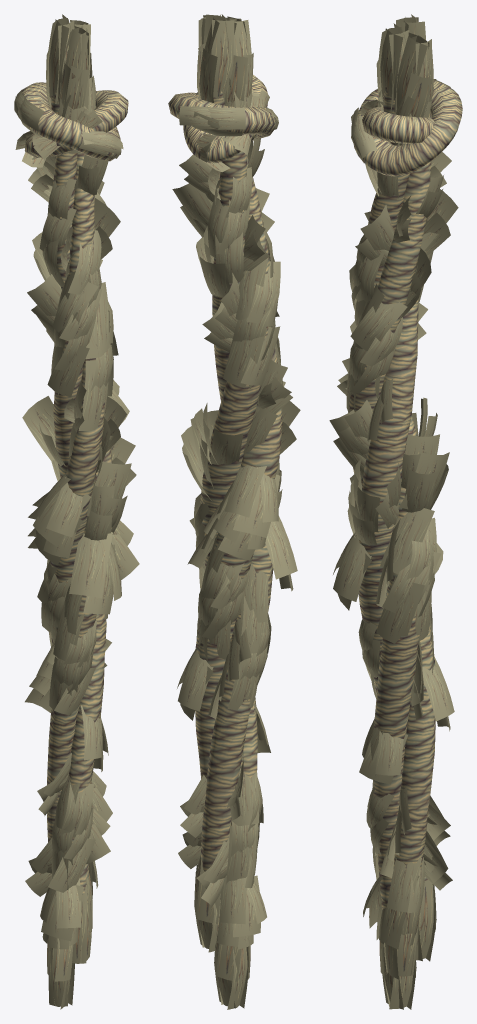
Rendered from SM_Torii_gate_sacred_rope_hanging_LOD0.fbx.
3 views of the same model, side by side, from view 1: azimuth 90°, elevation 25°; view 2: azimuth 150°, elevation 25°; view 3: azimuth 330°, elevation 25° (orthographic).
Parts seen in each view (by area): view 1: SM_Torii_gate_sacred_rope_hanging_LOD0_LOD0; view 2: SM_Torii_gate_sacred_rope_hanging_LOD0_LOD0; view 3: SM_Torii_gate_sacred_rope_hanging_LOD0_LOD0.
Boxes of the visible parts, x1=… form: SM_Torii_gate_sacred_rope_hanging_LOD0_LOD0: x1=14, y1=14, x2=139, y2=1009; SM_Torii_gate_sacred_rope_hanging_LOD0_LOD0: x1=168, y1=14, x2=300, y2=1009; SM_Torii_gate_sacred_rope_hanging_LOD0_LOD0: x1=329, y1=14, x2=462, y2=1009.
Size of the model in its own units: 64.37 by 64.1 by 550.
